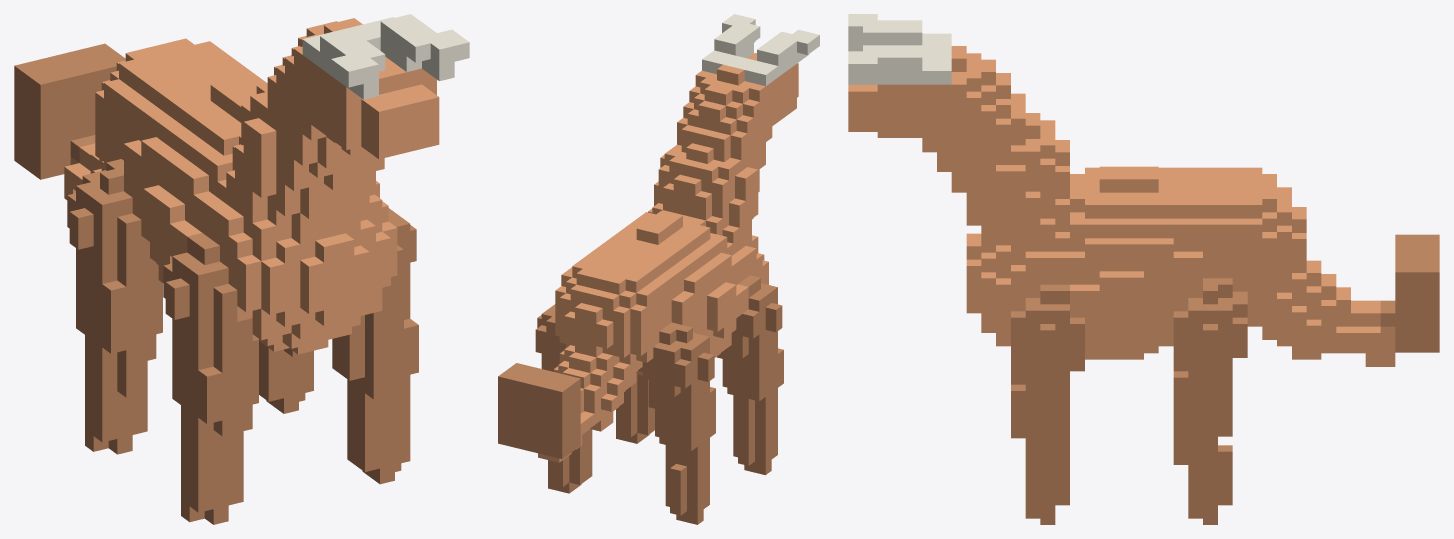
File: drake-42.glb
The picture shows the model from 3 angles, left to right: view 1: azimuth 30°, elevation 25°; view 2: azimuth 150°, elevation 25°; view 3: azimuth 270°, elevation 25°; orthographic projection. The views are drawn at different scales.
Visible parts, largest first — view 1: body, legBL, legFL, neck, legFR, tailTip, head, hornRight, hornLeft, legBR, tail; view 2: body, neck, legBL, legFL, tailTip, tail, legBR, hornLeft, hornRight, legFR, head; view 3: body, neck, legBR, legFR, tail, tailTip, head, hornRight, hornLeft.
Boxes of the visible parts, x1,y1,x2,y2 form: body: (95,38,397,354); legBL: (67,159,162,454); legFL: (163,233,258,524); neck: (226,18,384,228); legFR: (332,208,418,484); tailTip: (14,43,125,179); head: (302,55,439,159); hornRight: (348,14,469,81); hornLeft: (302,28,385,99); legBR: (259,341,313,413); tail: (64,143,103,199); body: (555,210,768,375); neck: (648,64,778,245); legBL: (638,322,715,524); legFL: (716,275,783,475); tailTip: (498,363,580,458); tail: (538,345,637,462); legBR: (535,304,592,493); hornLeft: (734,29,819,85); hornRight: (702,14,760,74); legFR: (616,372,654,443); head: (747,53,798,121); body: (966,166,1306,359); neck: (922,46,1069,251); legBR: (1173,278,1247,524); legFR: (1011,284,1084,524); tail: (1247,260,1395,366); tailTip: (1380,234,1439,352); head: (848,84,951,137); hornRight: (848,45,951,84); hornLeft: (848,14,951,52).
Size of the model in its own units: 0.72 by 1.48 by 1.8.
